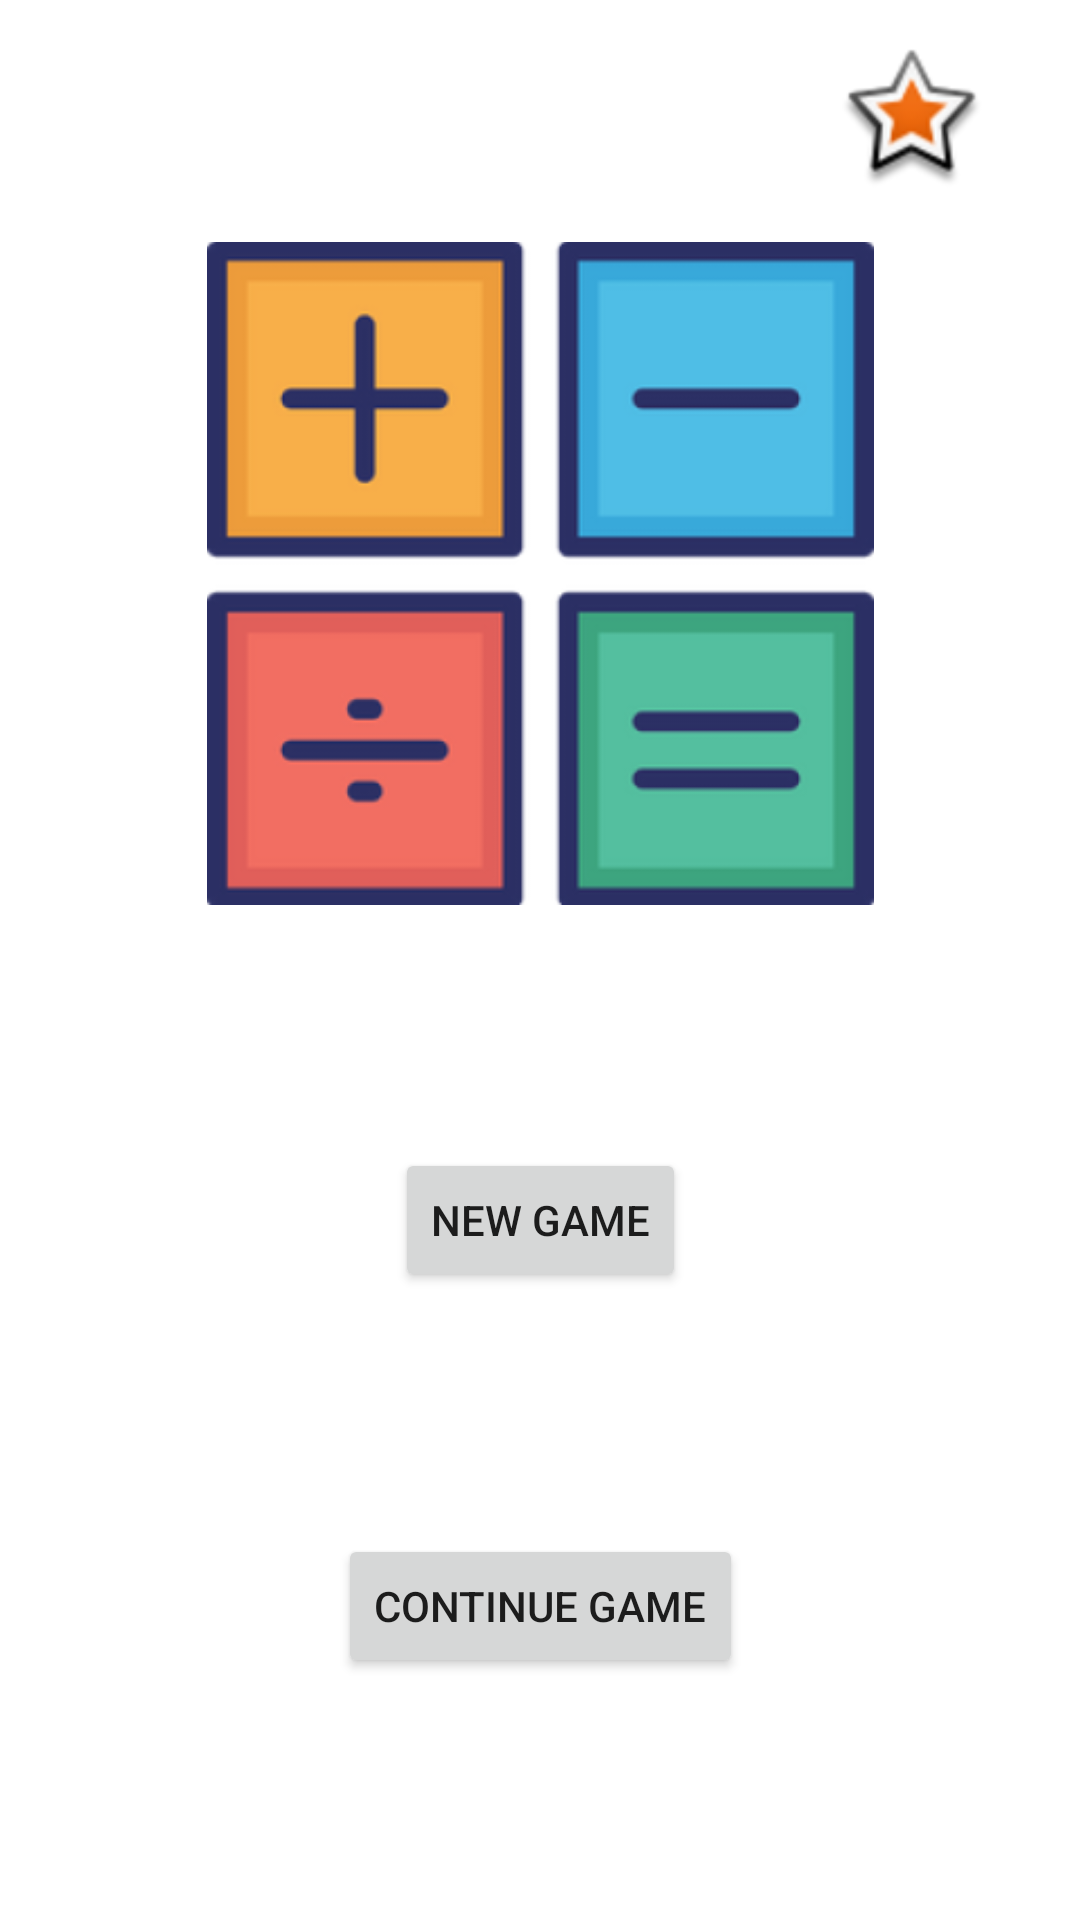

Where icons sit on this 1080w x 1920h app screen, as box(x1, y1, x2, y2):
High Score List: box(848, 50, 976, 180)
